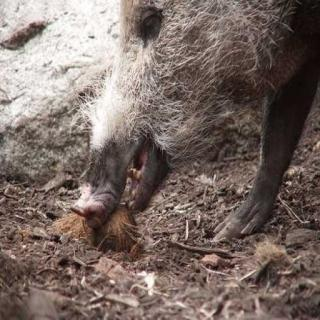Pig: (27, 0, 320, 255)
